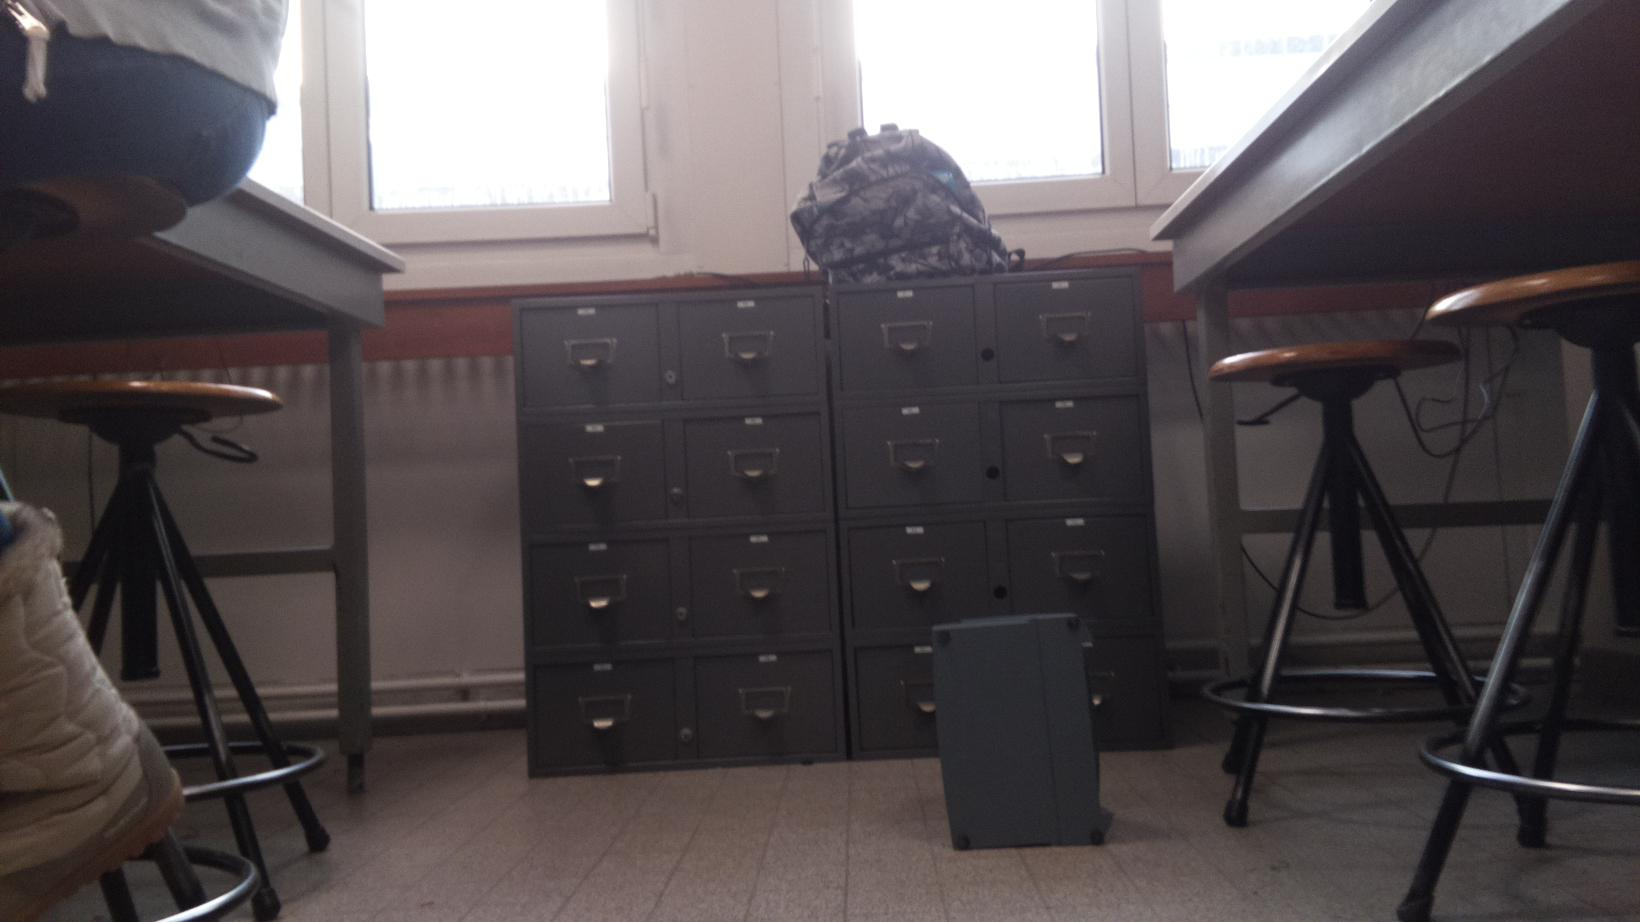big: (788, 116, 1030, 286)
medium: (921, 611, 1117, 859)
